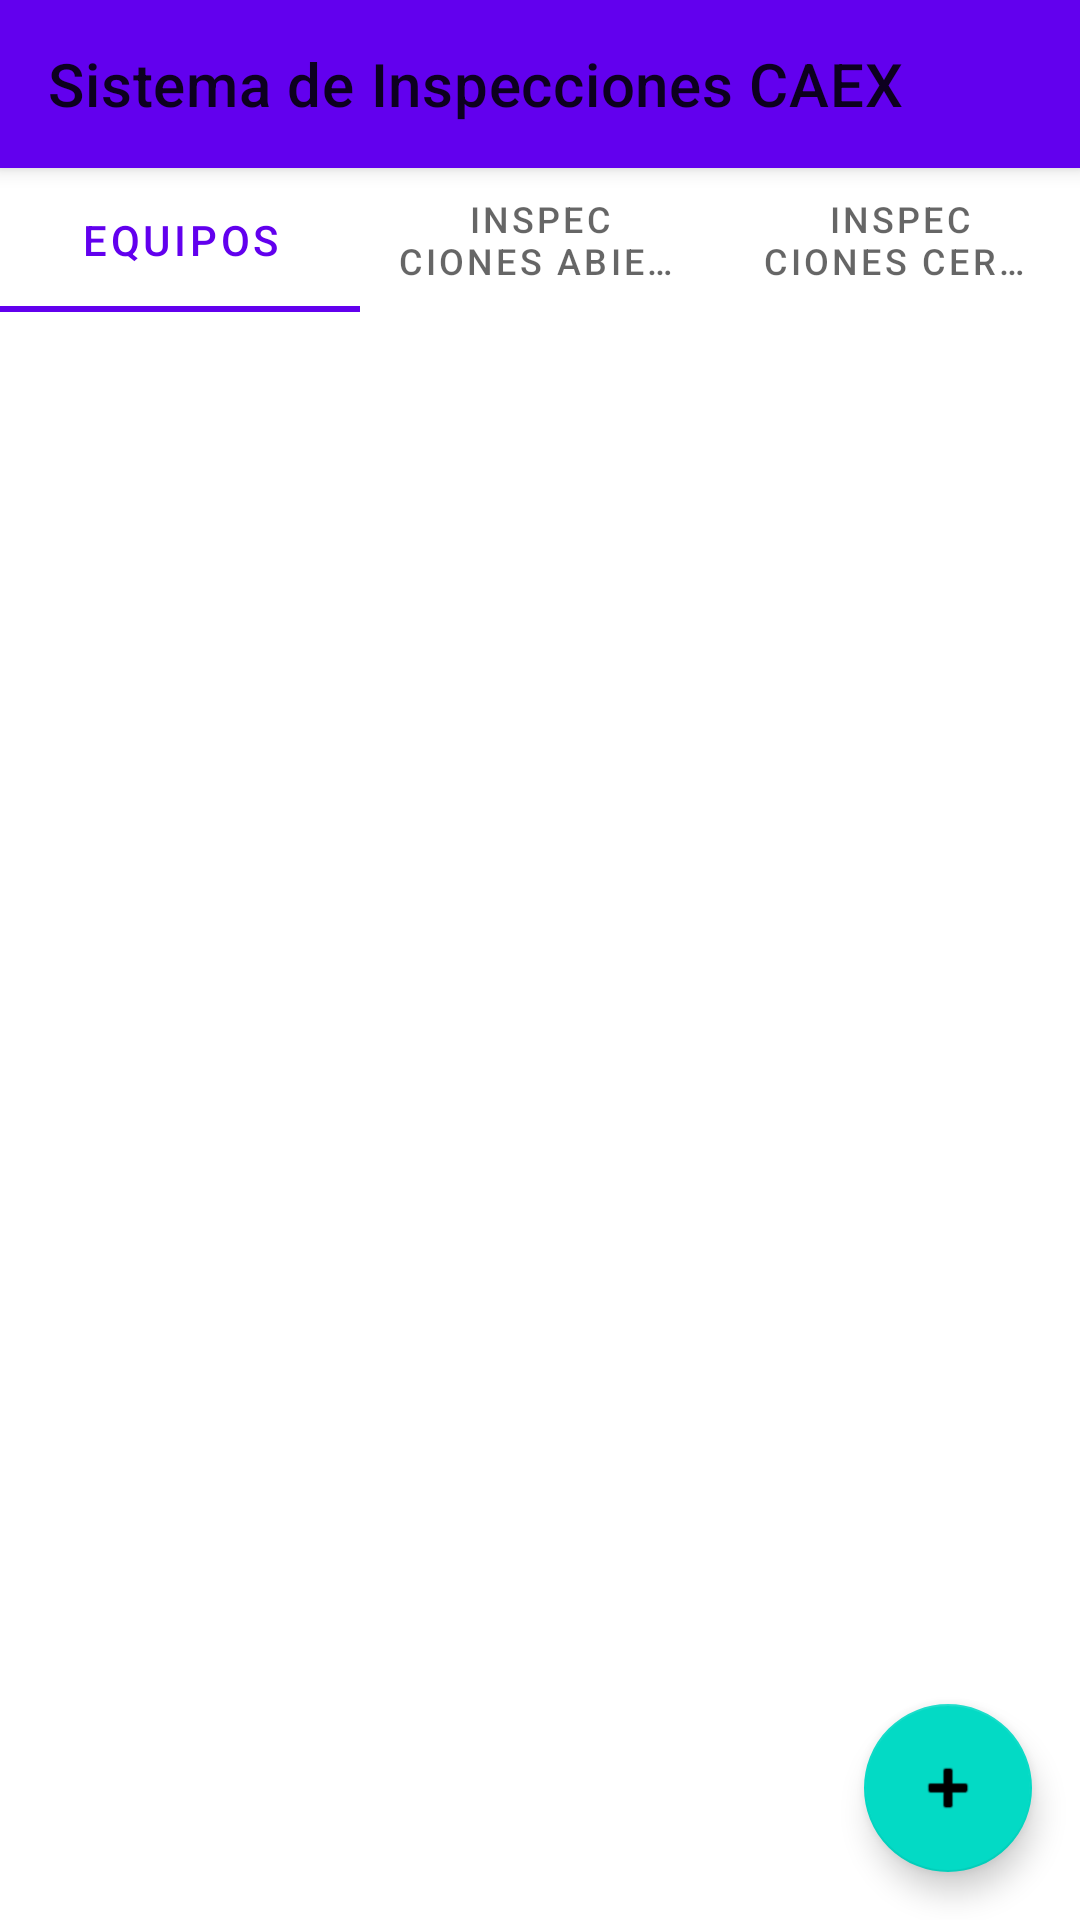

Screen size 1080 × 1920. Icon name, then its box in pixels as BBox(x1, y1, x2, y2):
Agregar nueva inspección: BBox(864, 1704, 1032, 1872)
